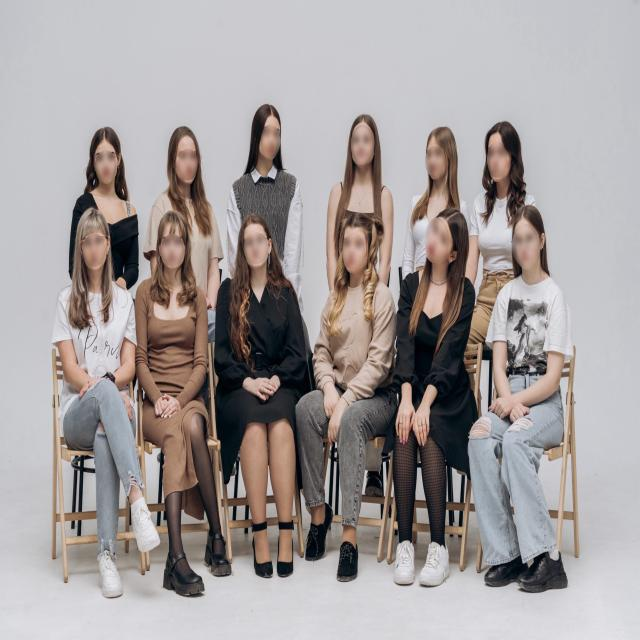Person: (51, 203, 159, 614), (138, 211, 238, 615), (300, 214, 404, 589), (481, 199, 575, 602), (388, 204, 474, 589), (220, 211, 306, 585), (469, 111, 518, 315), (228, 95, 301, 223), (154, 105, 216, 218), (334, 109, 392, 224), (68, 119, 136, 215), (408, 119, 459, 238)
